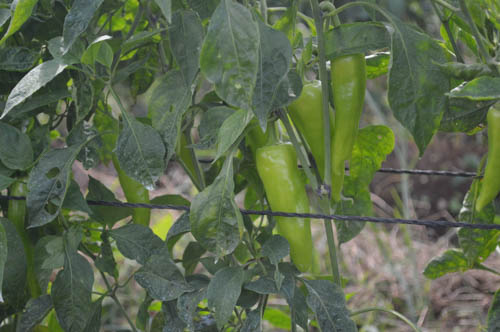ChiliPepper: (255, 143, 312, 267), (327, 56, 364, 199), (290, 82, 332, 174), (119, 164, 150, 222)
